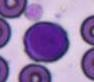L: (22, 22, 70, 62)
